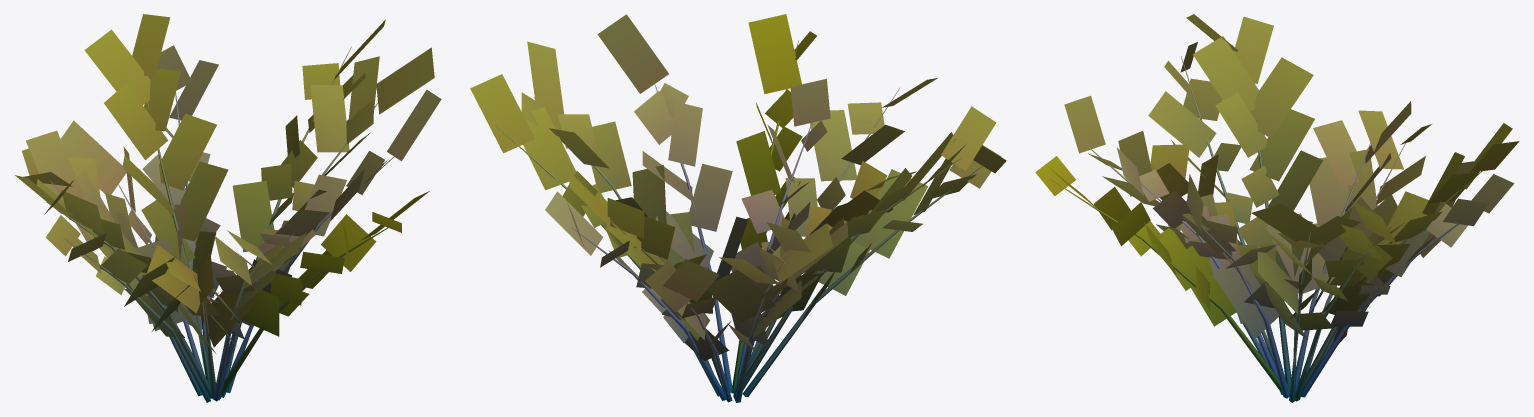
The model's file is willow_a.glb.
3 renders of one model, left to right at view 1: azimuth 30°, elevation 25°; view 2: azimuth 150°, elevation 25°; view 3: azimuth 270°, elevation 25°, orthographic. The views are drawn at different scales.
Visible parts, largest first — view 1: LOD0; view 2: LOD0; view 3: LOD0.
Part boxes in pixels (bbox=[...]): LOD0: bbox=[15, 14, 441, 402]; LOD0: bbox=[470, 14, 1006, 402]; LOD0: bbox=[1035, 14, 1519, 402].
Size of what is drawn, in the model's own units: 3.77 by 2.52 by 3.72.
